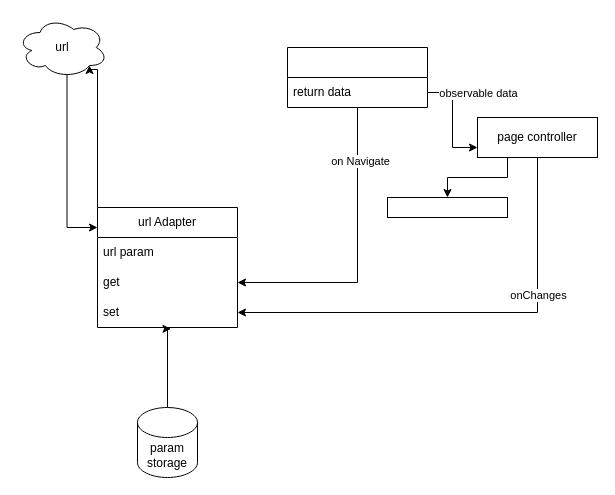
Image size: 615x495. Some labels were removed from this diagram. The shapes that lost their labels are listed below. From the top down, each one's box as (x1, y1, x2, y2) in pixels, then its label:
(286, 46, 428, 108): resolver
(386, 196, 508, 218): page
